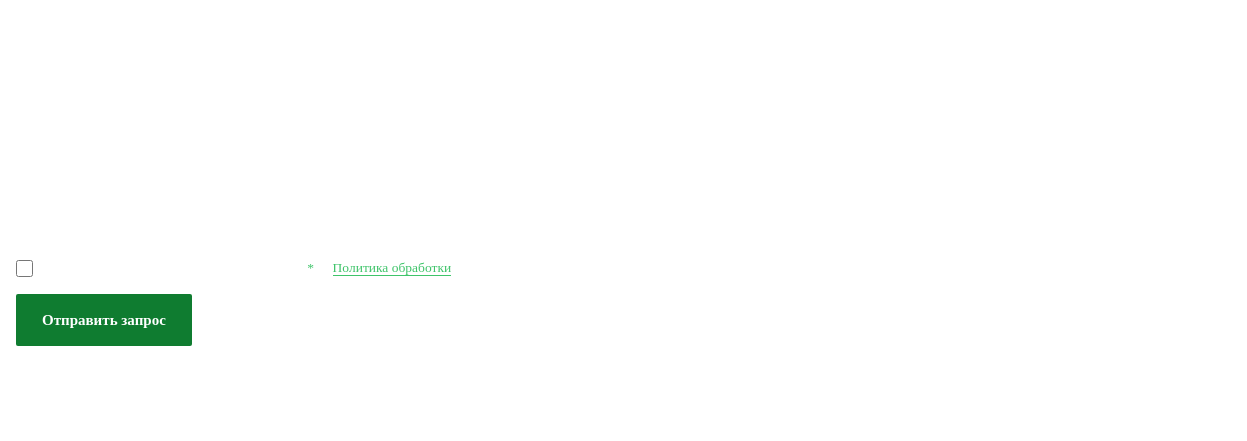
Test: форма с ошибками доступна не только глазами › связывает поле с текстом его ошибки
This screenshot has width=1247, height=441.
Step 1. Click the button "Отправить запрос" → (104, 320), box 16,294 -> 192,346
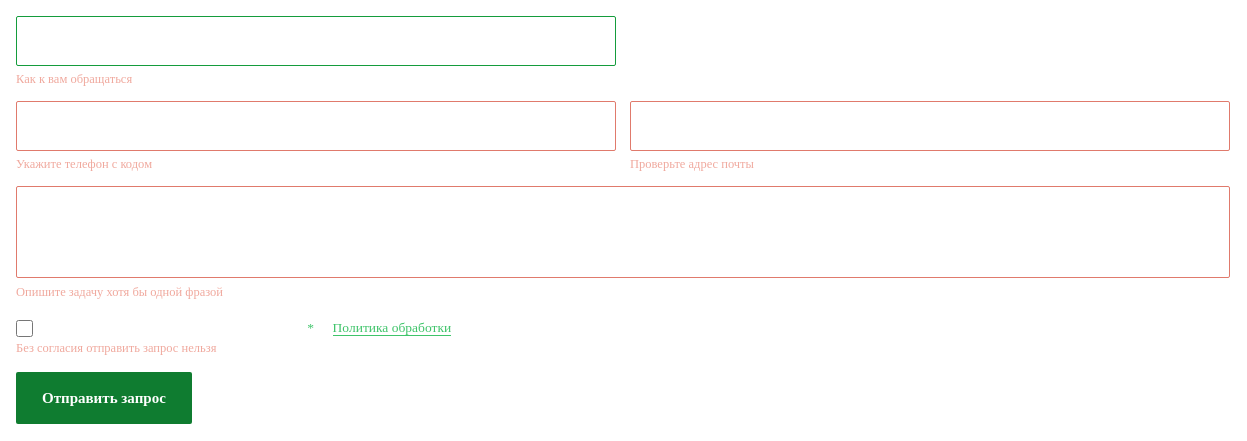
Result: the text "Как к вам обращаться" is shown at 16,72 -> 132,86
